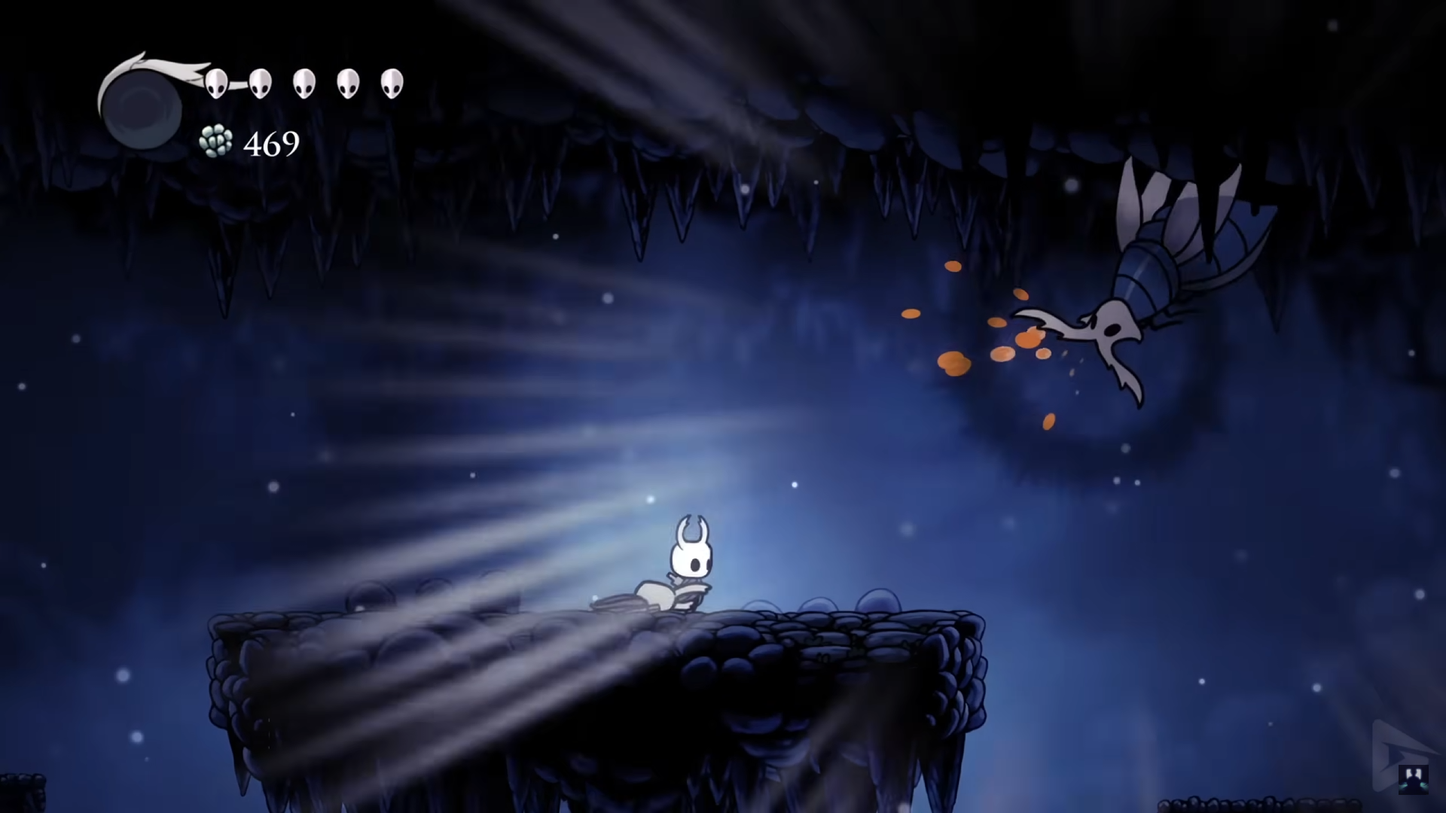HK: (663, 516, 718, 614)
